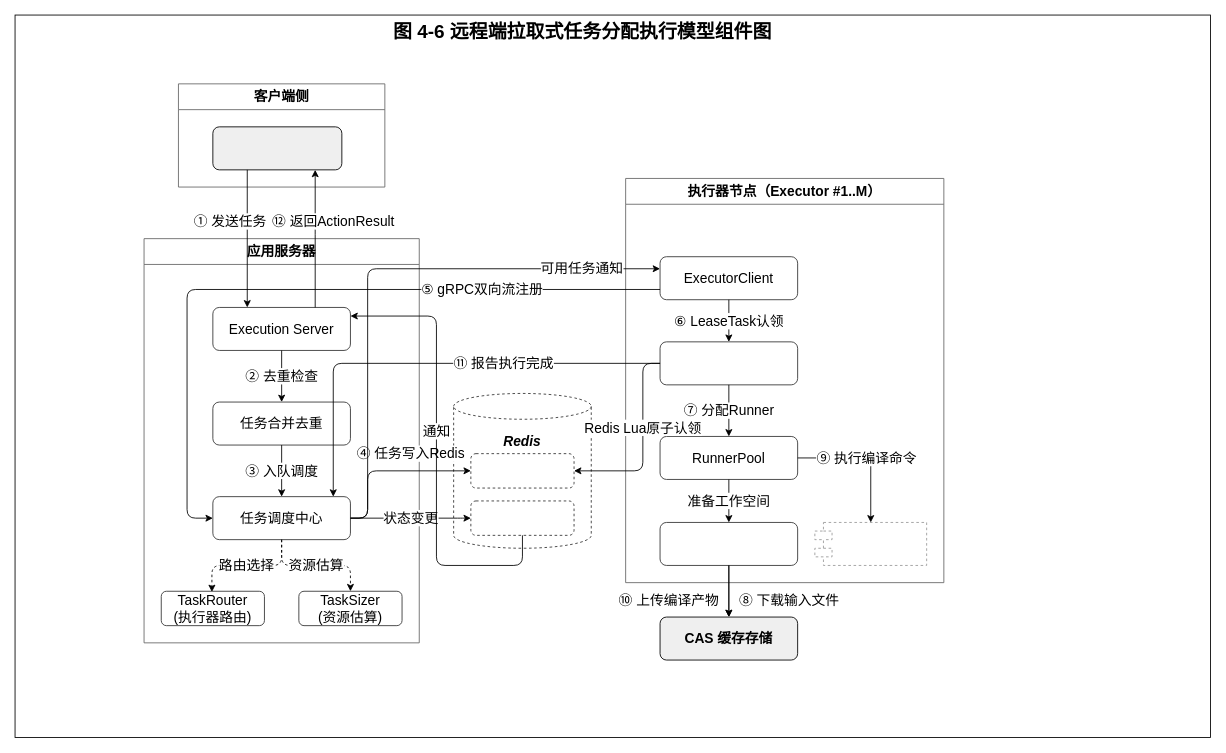
The diagram is 1226 pixels wide and 753 high, and some of its shapes have lost their labels. The centre of each missing label's shape, as x and y in pixels:
"Container (Docker/OCI)" goes at point 870,543.
"Pub/Sub (执行状态通知)" goes at point 522,517.
"REAPI Bridge (Action构造/提交)" goes at point 277,148.
"Workspace (输入下载/输出上传)" goes at point 728,543.
"任务租约认领" goes at point 728,363.
"任务队列 (Sorted Set/Hash)" goes at point 522,470.
